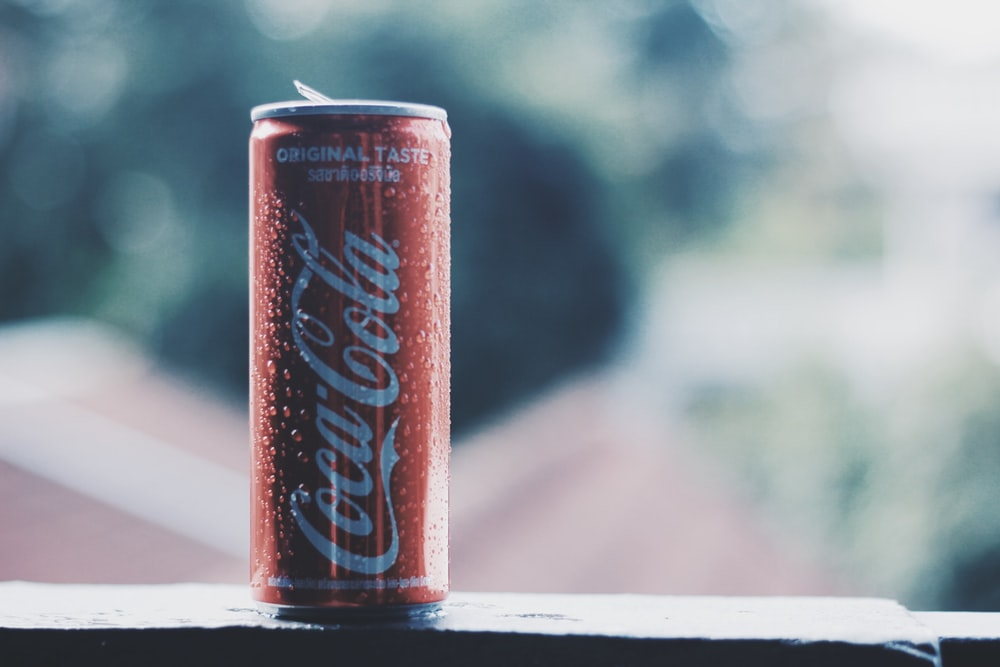coke: (247, 102, 448, 617)
